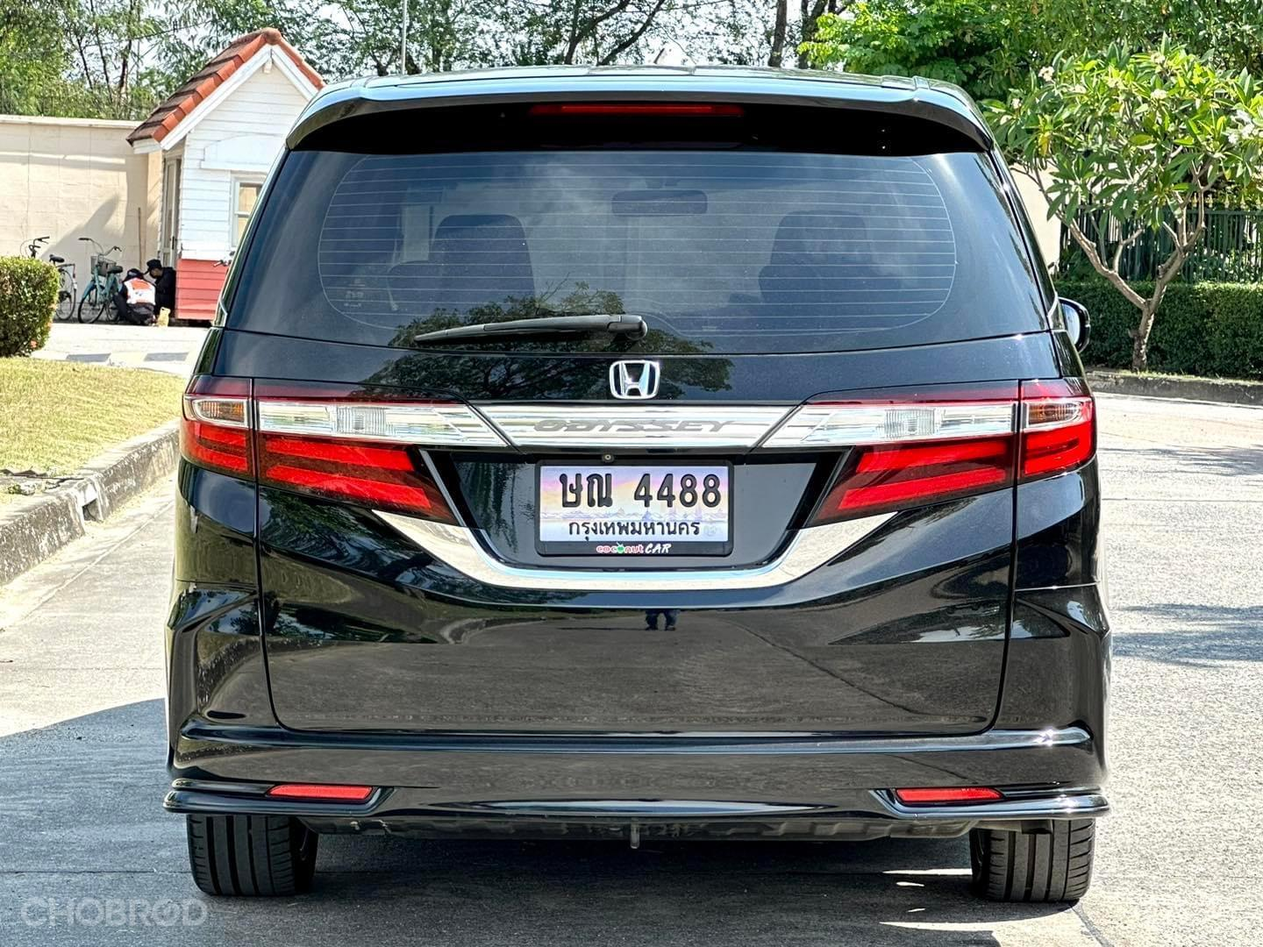license-plate: (534, 461, 736, 558)
